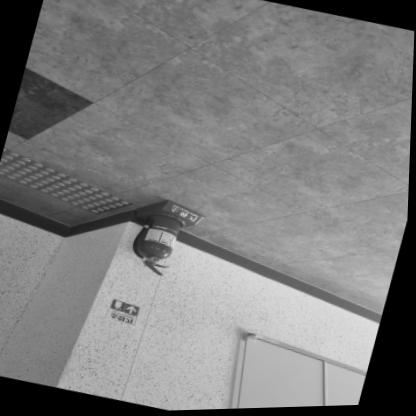FE: (126, 193, 209, 283)
